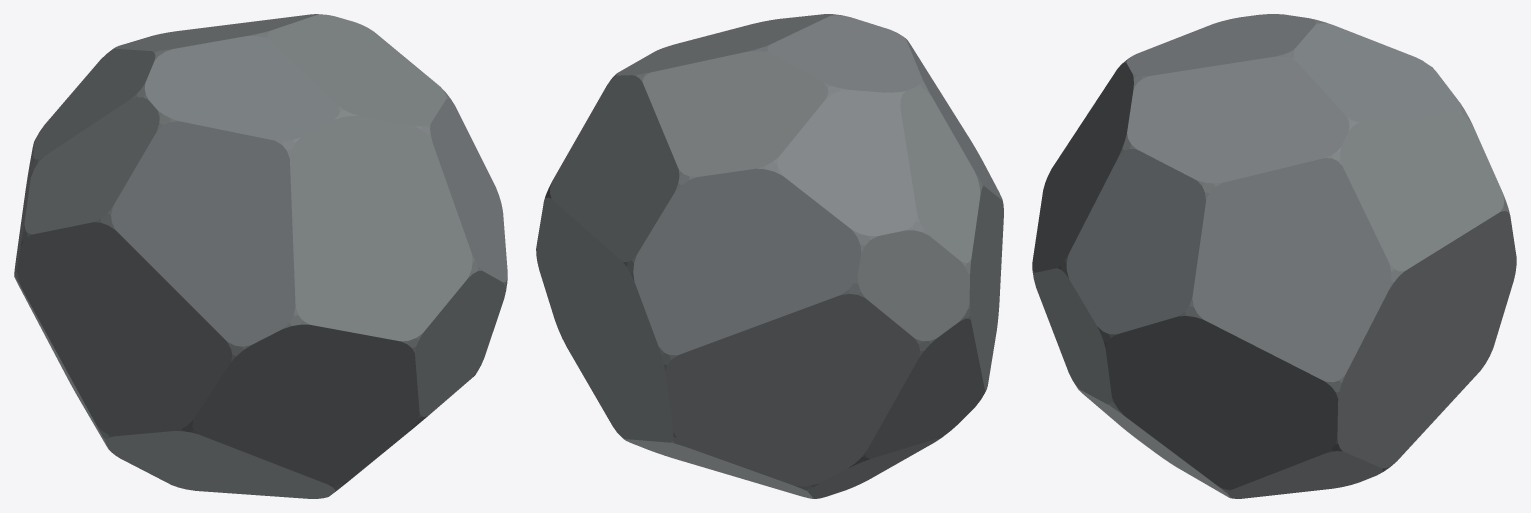
Rendered from Rock_LP_Boulder_A1_03.fbx.
The picture shows the model from 3 angles, left to right: view 1: azimuth 30°, elevation 25°; view 2: azimuth 150°, elevation 25°; view 3: azimuth 270°, elevation 25°; orthographic projection. The views are drawn at different scales.
Visible parts, largest first — view 1: Rock_LP_Boulder_A1_03_LOD0; view 2: Rock_LP_Boulder_A1_03_LOD0; view 3: Rock_LP_Boulder_A1_03_LOD0.
Boxes of the visible parts, box(x1,y1,x2,y2) form: Rock_LP_Boulder_A1_03_LOD0: box(14, 14, 507, 498); Rock_LP_Boulder_A1_03_LOD0: box(536, 14, 1003, 498); Rock_LP_Boulder_A1_03_LOD0: box(1032, 14, 1516, 498).
Size of what is drawn, in the model's own units: 1.88 by 1.78 by 1.88.
